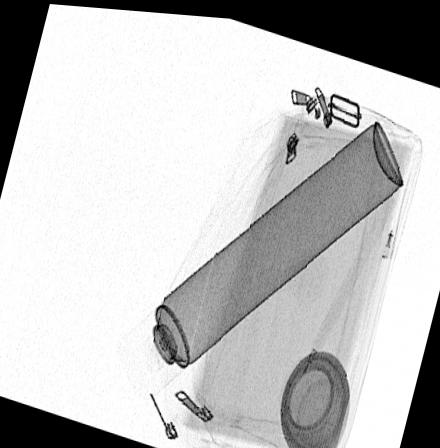Sprayer: (117, 114, 402, 391)
